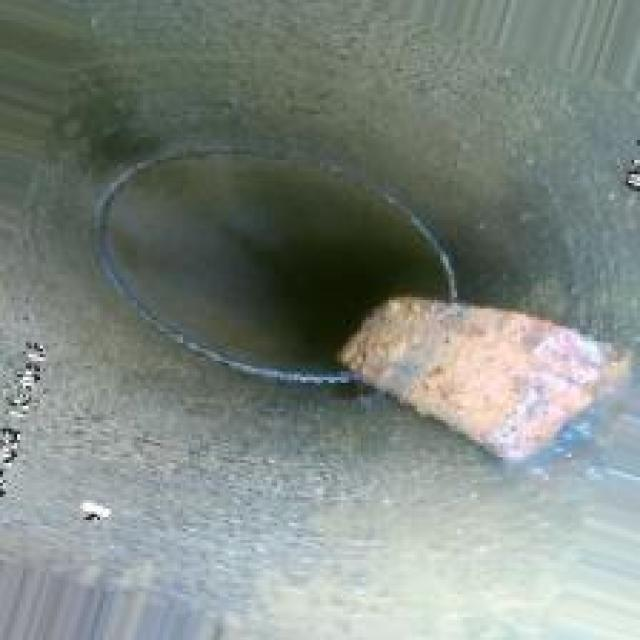stone: (332, 280, 612, 466)
